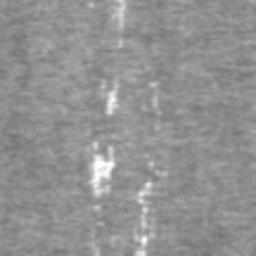White rust: (88, 146, 116, 197), (137, 181, 153, 229), (112, 0, 127, 30), (105, 84, 119, 116), (134, 234, 148, 256), (91, 142, 99, 150)
